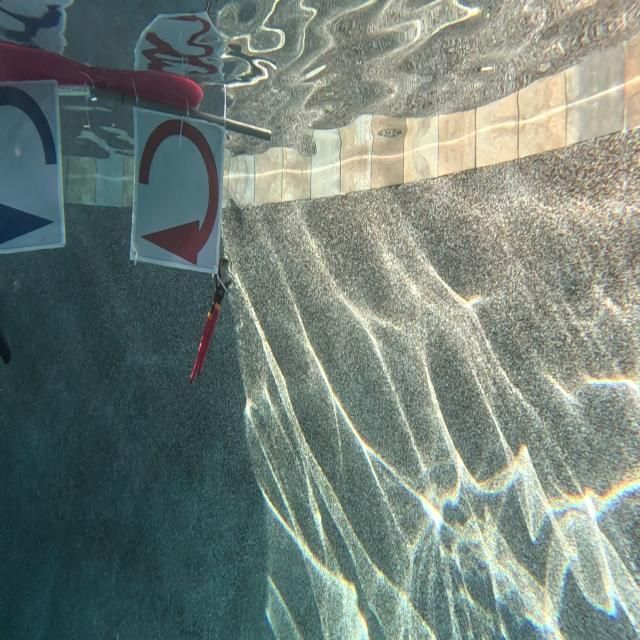blue_side: (0, 86, 66, 254)
red_side: (134, 100, 220, 272)
